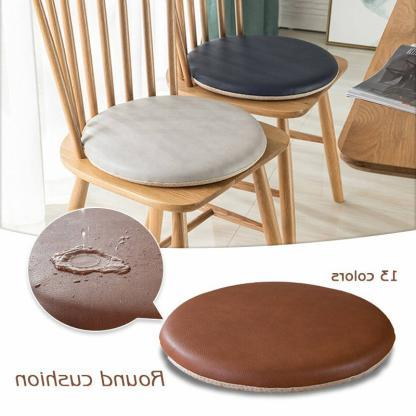chair: (48, 0, 298, 209), (175, 0, 359, 118)
table: (338, 0, 416, 191)
